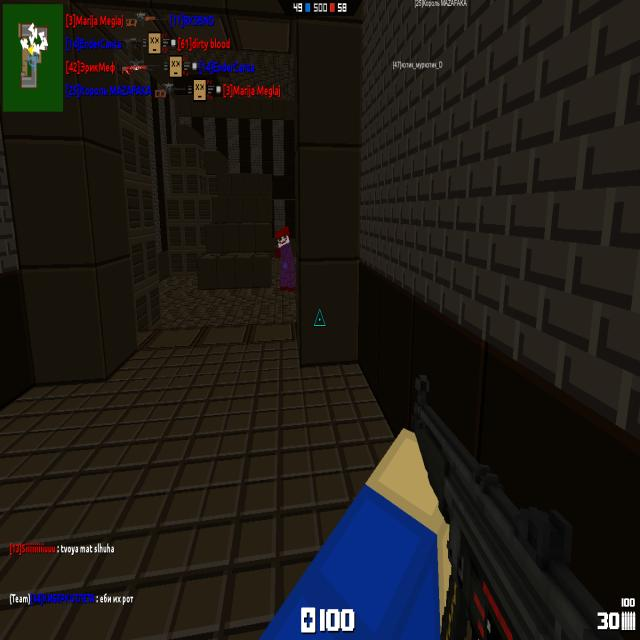enemy: (274, 223, 296, 293)
